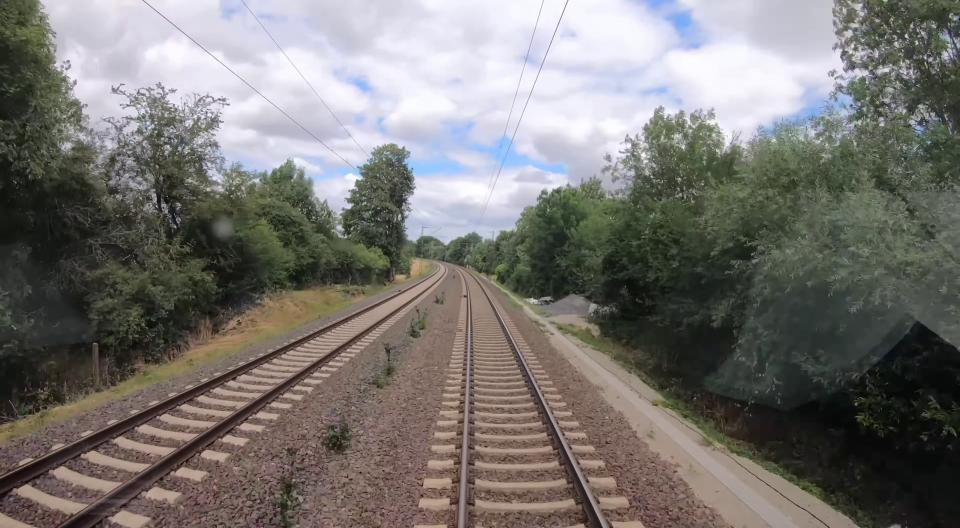Plant: (275, 460, 302, 528), (370, 342, 398, 388), (322, 422, 352, 453), (409, 310, 428, 338), (434, 292, 445, 305), (286, 449, 298, 458)
